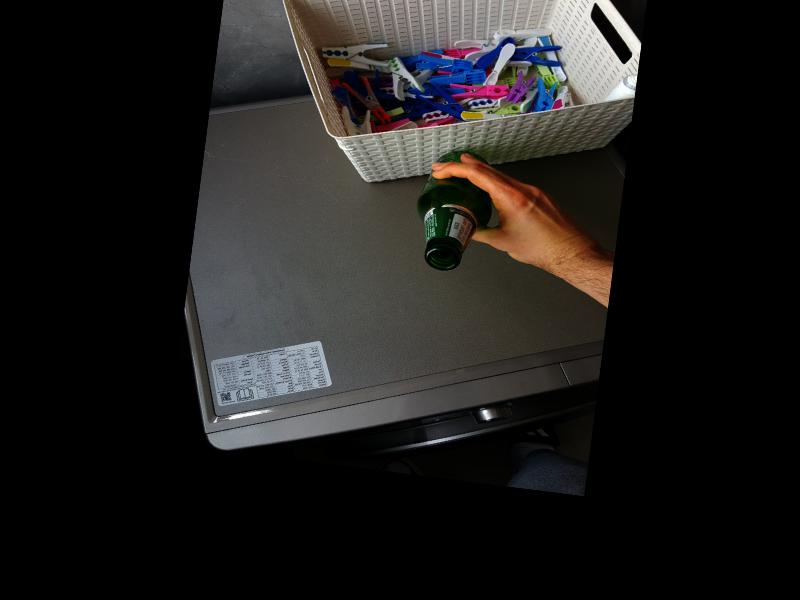Beer: (409, 146, 498, 275)
